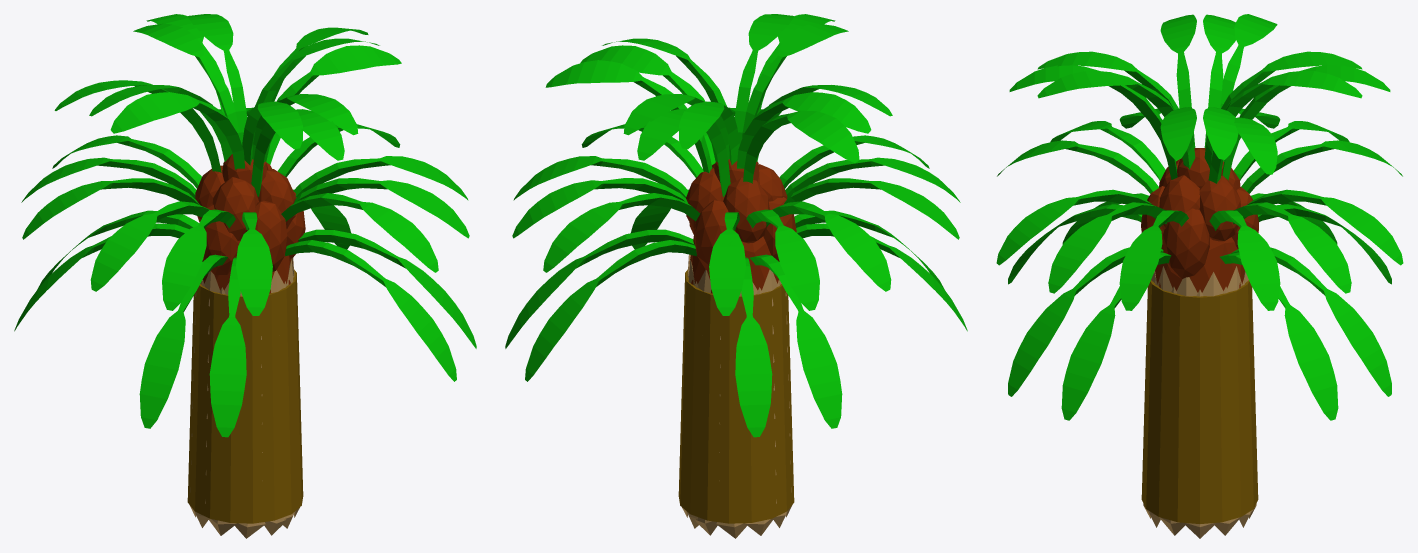
The model's file is Palm Oil Tree 2.fbx.
The picture shows the model from 3 angles, left to right: view 1: azimuth 30°, elevation 25°; view 2: azimuth 150°, elevation 25°; view 3: azimuth 270°, elevation 25°; orthographic projection.
Parts seen in each view (by area): view 1: Cylinder, Cube.036, Cube.035, Cube.004, Cube.054, Cube.034, Cube.032, Cube.001, Cube.033, Cube.003, Cube.005, Cube.049 (+24 smaller); view 2: Cylinder, Cube.022, Cube.023, Cube.018, Cube.053, Cube.020, Cube.021, Cube.007, Cube.019, Cube.055, Cube.039, Cube.017 (+24 smaller); view 3: Cylinder, Cube.017, Cube.005, Cube.018, Cube.004, Cube.006, Cube.002, Cube.003, Cube.016, Cube.001, Cube.007, Icosphere.014 (+22 smaller).
Part boxes in pixels (x1,y1,x2,y2): Cylinder: (187,269,303,523); Cube.036: (209,257,246,437); Cube.035: (139,254,227,428); Cube.004: (285,240,456,381); Cube.054: (110,92,244,169); Cube.034: (162,209,235,310); Cube.032: (90,201,209,291); Cube.001: (281,193,438,272); Cube.033: (236,212,272,315); Cube.003: (294,178,469,238); Cube.005: (298,229,476,348); Cube.049: (263,45,401,162); Cylinder: (678,269,794,523); Cube.022: (735,257,772,437); Cube.023: (749,254,842,428); Cube.018: (525,240,696,381); Cube.053: (743,110,859,183); Cube.020: (766,201,891,291); Cube.021: (746,209,819,310); Cube.007: (543,193,700,272); Cube.019: (709,212,745,315); Cube.055: (737,92,871,168); Cube.039: (545,60,712,172); Cube.017: (505,229,694,348); Cylinder: (1141,280,1258,523); Cube.017: (1220,252,1338,420); Cube.005: (1061,252,1171,420); Cube.018: (1231,247,1391,396); Cube.004: (1008,247,1163,396); Cube.006: (1209,210,1280,310); Cube.002: (1119,210,1188,310); Cube.003: (1048,202,1166,293); Cube.016: (1233,202,1351,293); Cube.001: (996,189,1156,265); Cube.007: (1243,189,1403,265); Icosphere.014: (1163,208,1209,278).
Bounding box in the file's own units: 704 × 805 × 660.
